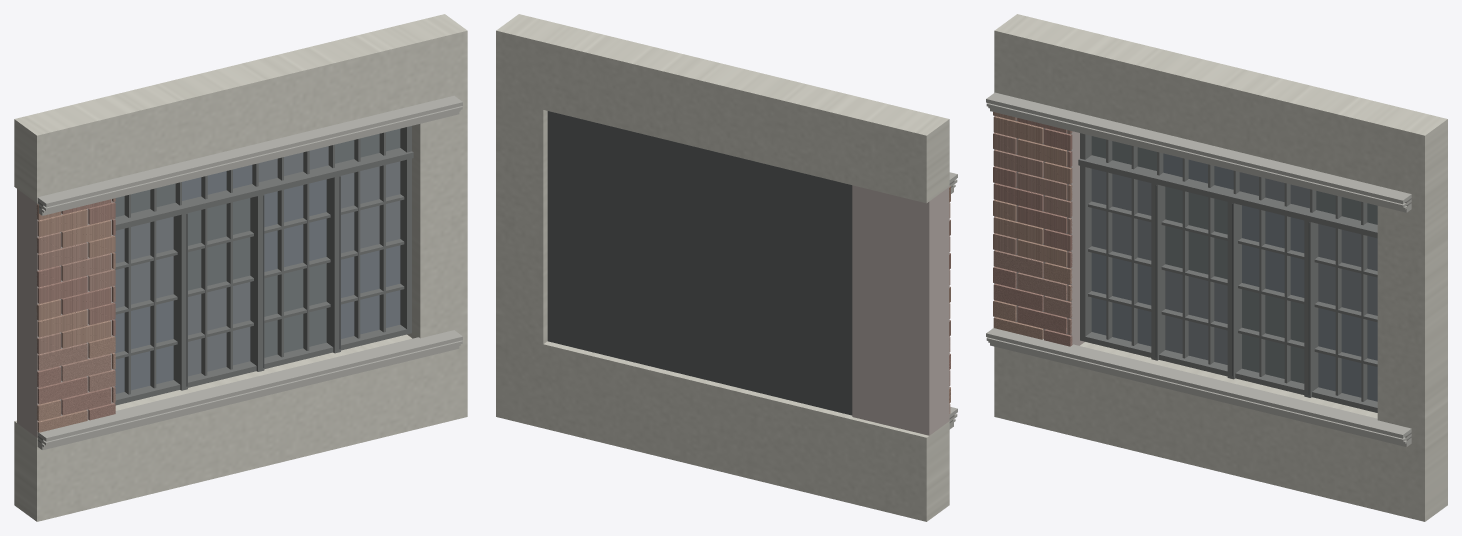
File: kinnear-window-near.glb
3 renders of one model, left to right at view 1: azimuth 30°, elevation 25°; view 2: azimuth 150°, elevation 25°; view 3: azimuth 330°, elevation 25°, orthographic.
Parts seen in each view (by area): view 1: 开纳公寓钢窗与砖垛; view 2: 开纳公寓钢窗与砖垛; view 3: 开纳公寓钢窗与砖垛.
Boxes of the visible parts, x1=… form: 开纳公寓钢窗与砖垛: x1=14, y1=14, x2=467, y2=521; 开纳公寓钢窗与砖垛: x1=496, y1=14, x2=957, y2=521; 开纳公寓钢窗与砖垛: x1=986, y1=14, x2=1447, y2=521.
Size of the model in its own units: 2.73 by 2.34 by 0.347.
Materials: 12 (4 with a texture image).
